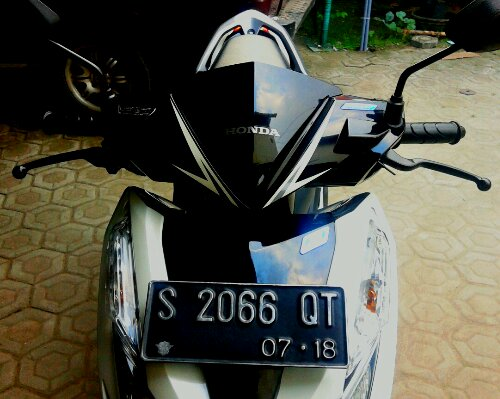plate: (144, 281, 346, 366)
